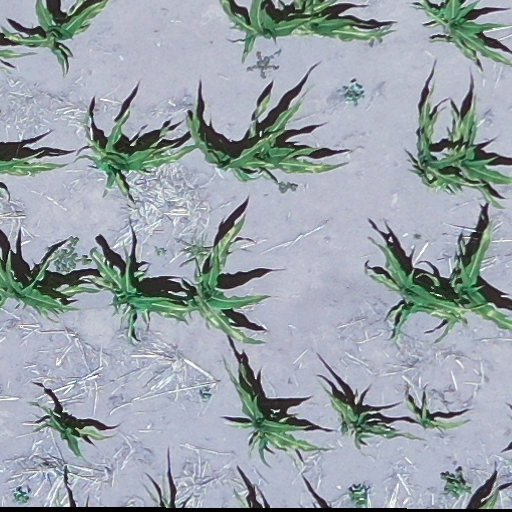planta: (364, 237, 490, 341), (220, 357, 332, 471), (74, 105, 201, 204), (81, 245, 203, 347), (185, 214, 271, 344), (185, 87, 287, 186), (406, 81, 487, 195), (248, 90, 345, 174), (318, 382, 421, 456), (24, 401, 115, 463), (406, 394, 469, 429)
